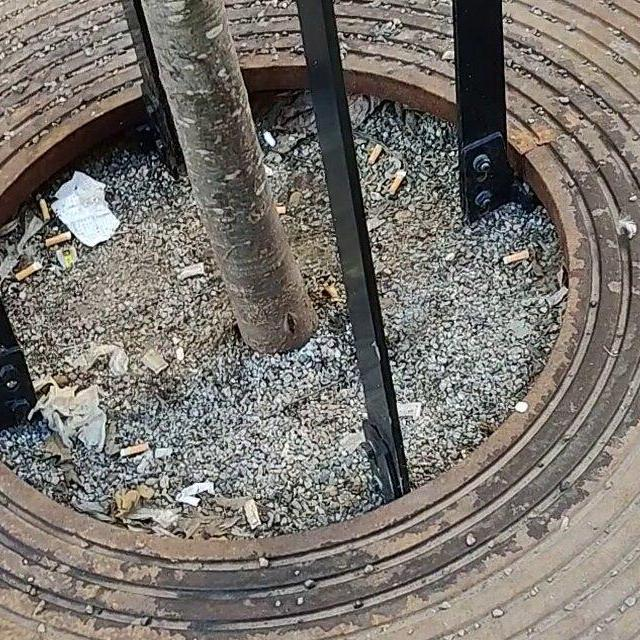Cigarette Butt: (241, 499, 262, 534), (45, 229, 74, 251), (35, 194, 56, 222), (16, 264, 40, 286), (119, 440, 145, 459), (391, 168, 405, 197), (366, 138, 381, 163), (505, 251, 527, 266)
